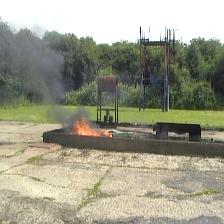fire: (75, 116, 113, 137)
